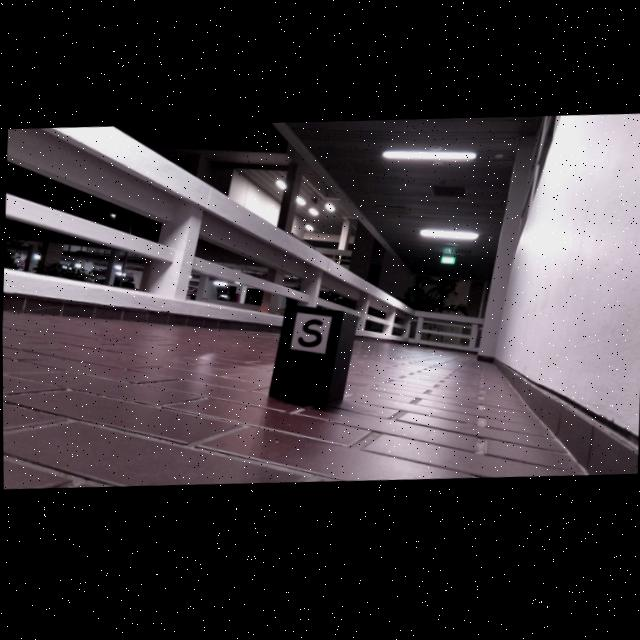S: (297, 323, 321, 351)
